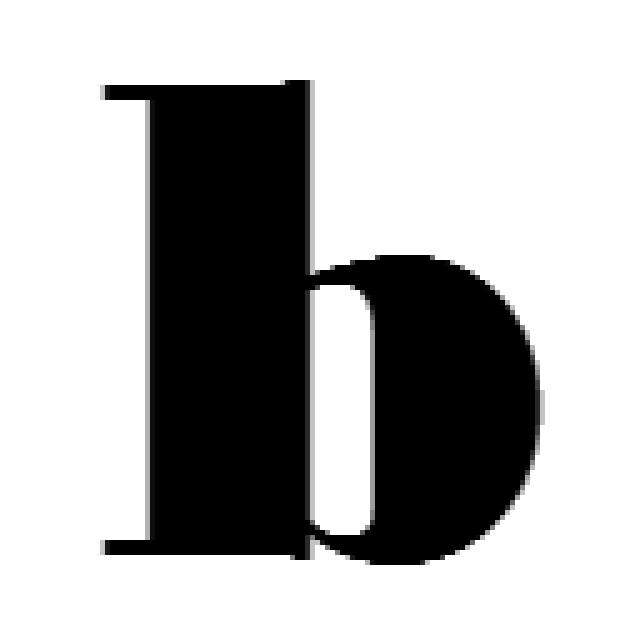B: (100, 80, 540, 565)
